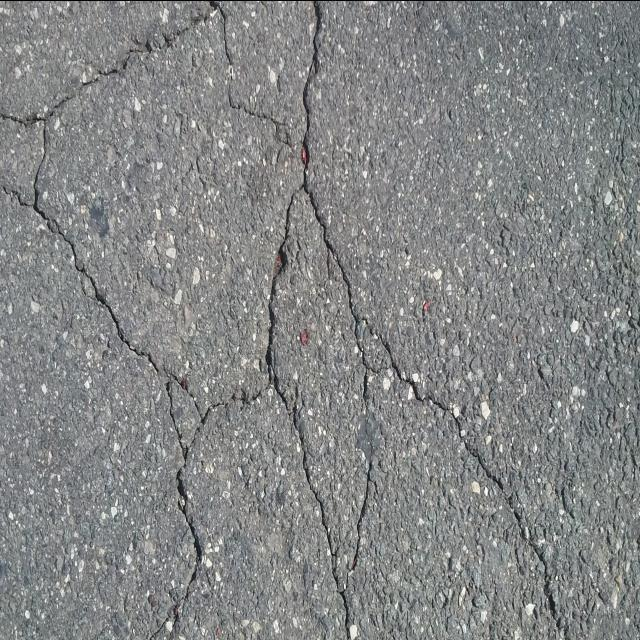Crack: (264, 0, 570, 640), (0, 0, 292, 640), (290, 320, 375, 640)
